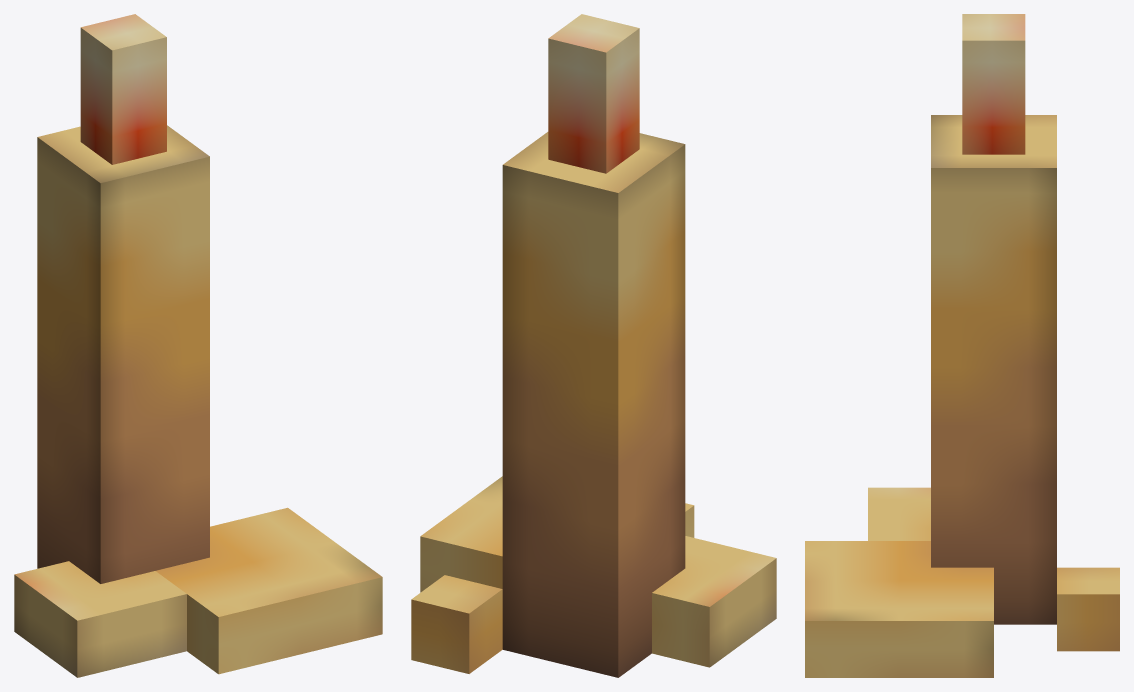
Rendered from candle_arrangement_08_lit.fbx.
3 renders of one model, left to right at view 1: azimuth 30°, elevation 25°; view 2: azimuth 150°, elevation 25°; view 3: azimuth 270°, elevation 25°, orthographic. The views are drawn at different scales.
Visible parts, largest first — view 1: candle_arrangement_08_lit; view 2: candle_arrangement_08_lit; view 3: candle_arrangement_08_lit.
Part boxes in pixels (x1,y1,x2,y2): candle_arrangement_08_lit: [14, 14, 382, 677]; candle_arrangement_08_lit: [411, 14, 776, 677]; candle_arrangement_08_lit: [805, 14, 1119, 677].
Bounding box in the file's own units: 5 × 10 × 5.
